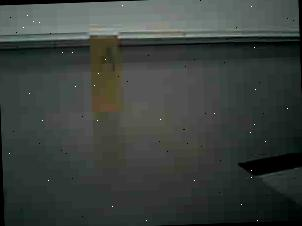Bottle A: (85, 22, 128, 117)
